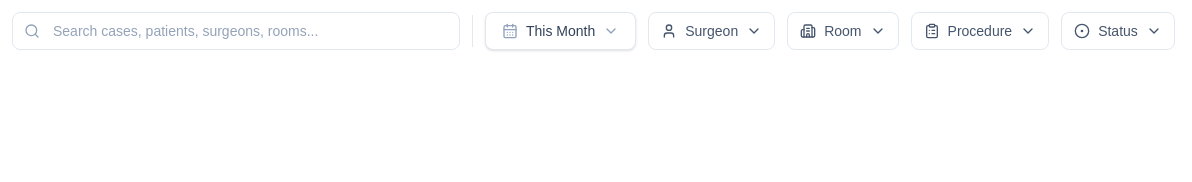
Test: CasesFilterBar — interactions › opens surgeon dropdown on click and shows options
The image size is (1192, 182).
Step 1. Click the button "Surgeon" → [712, 31], box left=648, top=12, right=775, bottom=50
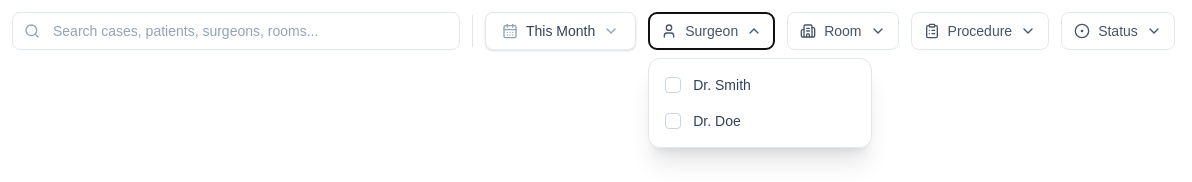
Check: the text "Dr. Smith" is shown, box left=693, top=75, right=751, bottom=95
Check: the text "Dr. Doe" is shown, box left=693, top=111, right=741, bottom=131
